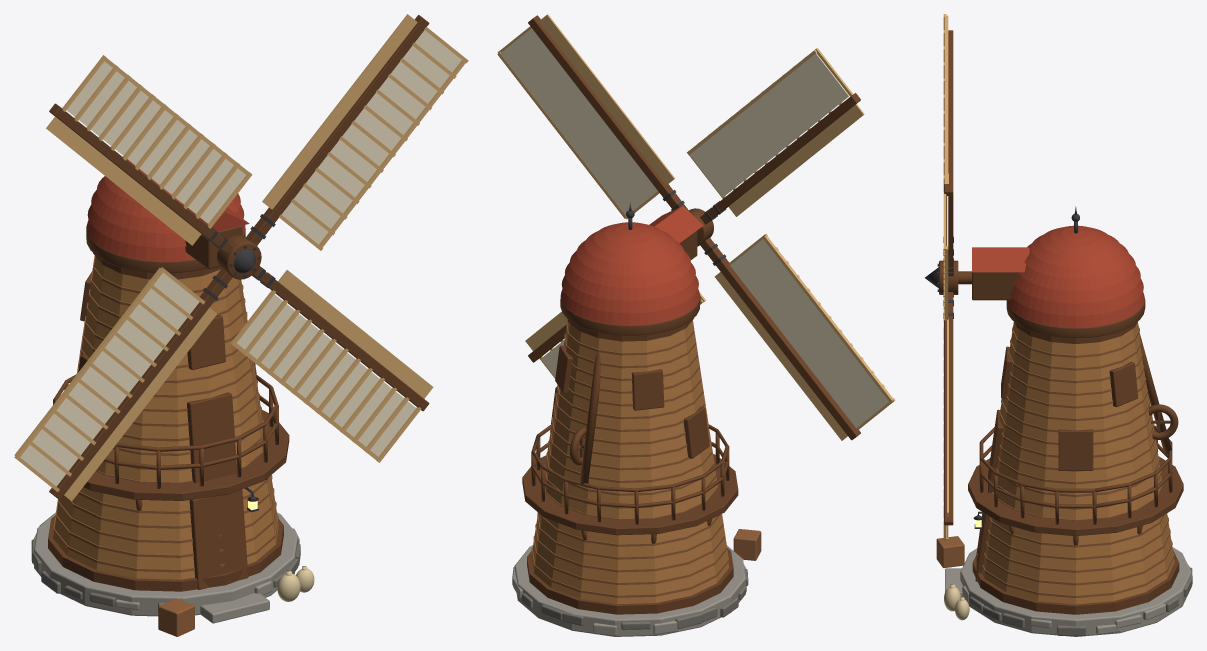
File: gen_windmill.glb
3 views of the same model, side by side, from view 1: azimuth 30°, elevation 25°; view 2: azimuth 150°, elevation 25°; view 3: azimuth 270°, elevation 25° (orthographic). The views are drawn at different scales.
Parts seen in each view (by area): view 1: windmill_sails, gen_windmill; view 2: gen_windmill, windmill_sails; view 3: gen_windmill, windmill_sails.
Part boxes in pixels (x1,y1,x2,y2): windmill_sails: [14, 14, 468, 501]; gen_windmill: [31, 159, 314, 636]; gen_windmill: [512, 203, 761, 636]; windmill_sails: [497, 14, 895, 440]; gen_windmill: [936, 206, 1192, 636]; windmill_sails: [925, 14, 971, 541].
Bounding box in the file's own units: 11.78 × 14.79 × 6.96.
1 material, 1 textured.
